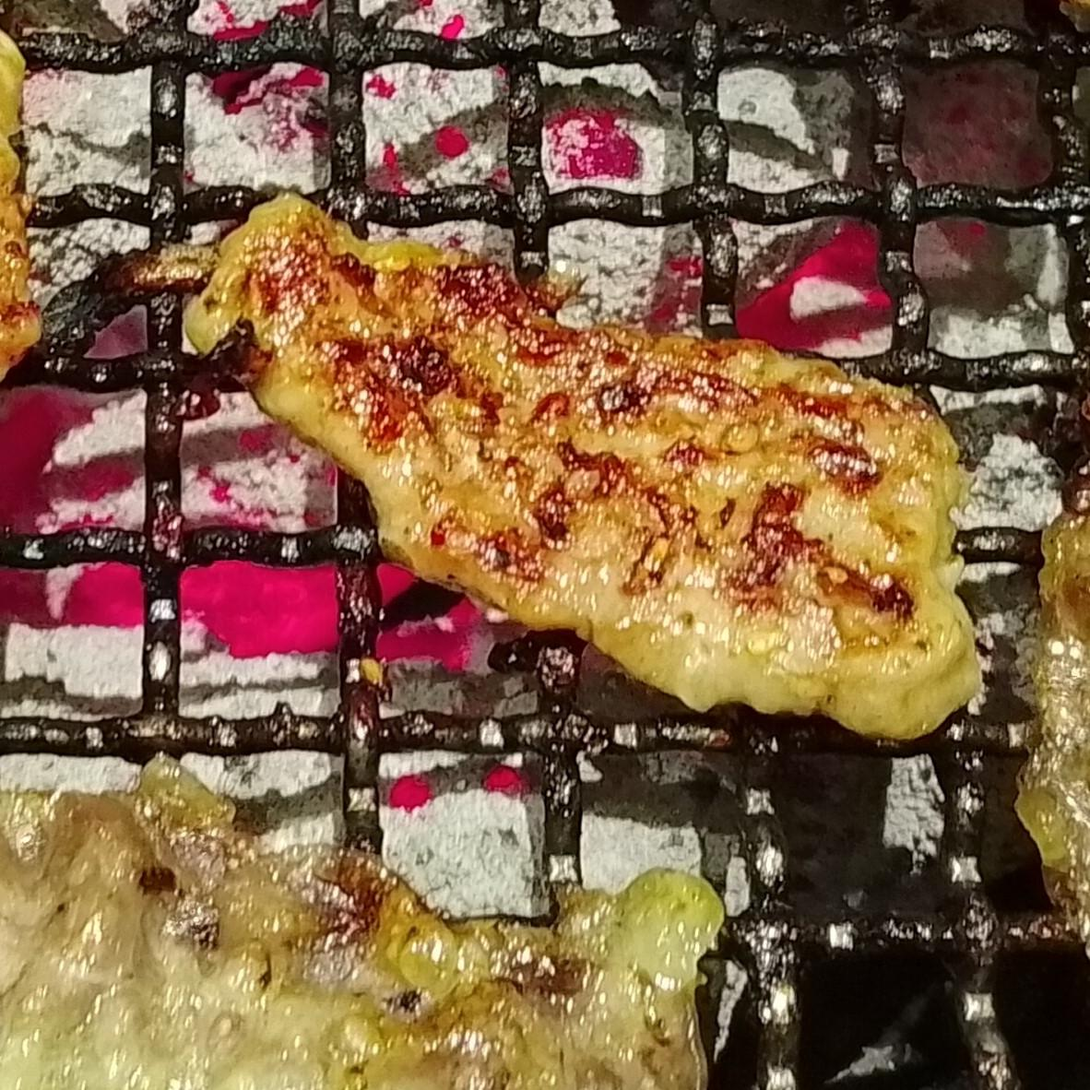Well-Cooked: (181, 194, 983, 753), (0, 769, 719, 1089)
